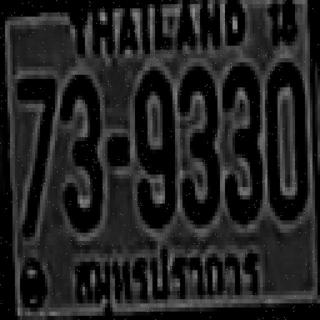N00: (265, 58, 305, 216)
N03: (60, 70, 100, 228), (222, 62, 260, 220), (179, 62, 216, 220)
N07: (16, 75, 54, 233)
N09: (134, 66, 174, 225)
P57: (69, 243, 267, 319)
